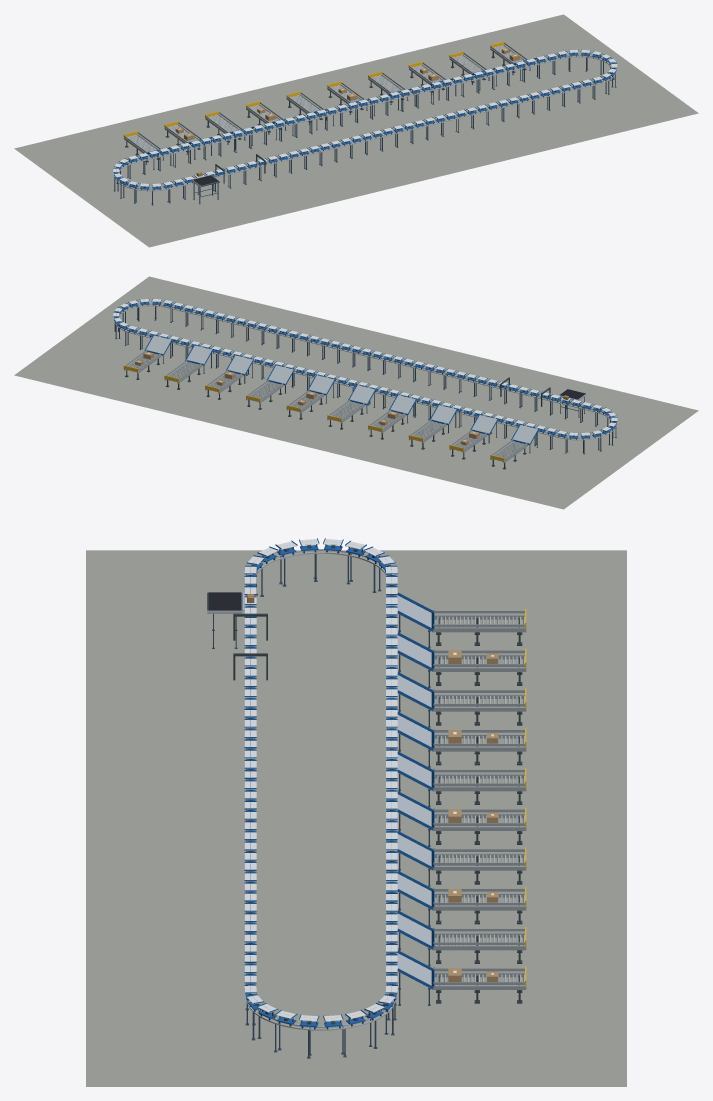
The picture shows the model from 3 angles, top to bottom: view 1: azimuth 30°, elevation 25°; view 2: azimuth 150°, elevation 25°; view 3: azimuth 270°, elevation 25°; orthographic projection. The views are drawn at different scales.
Parts seen in each view (by area): view 1: Studio ground, Outfeed roller beds, guide-rail-1, guide-rail--1, Outfeed side beams, Outfeed containment guides, Illustrative accumulated cartons, End guard bars, Outfeed legs and footplates; view 2: Studio ground, Outfeed roller beds, Outfeed side beams, guide-rail--1, Outfeed containment guides, guide-rail-1, Outfeed legs and footplates, End guard bars, Illustrative accumulated cartons; view 3: Studio ground, Outfeed side beams, Outfeed containment guides, Outfeed roller beds, Outfeed legs and footplates, Illustrative accumulated cartons.
Boxes of the visible parts, x1,y1,x2,y2 form: Studio ground: (14, 14, 698, 247); Outfeed roller beds: (127, 45, 523, 152); guide-rail-1: (114, 55, 616, 191); guide-rail--1: (119, 56, 611, 189); Outfeed side beams: (124, 44, 527, 156); Outfeed containment guides: (124, 42, 527, 152); Illustrative accumulated cartons: (175, 48, 520, 140); End guard bars: (123, 41, 504, 137); Outfeed legs and footplates: (125, 46, 526, 162); Studio ground: (14, 276, 698, 509); Outfeed roller beds: (125, 353, 524, 461); Outfeed side beams: (124, 354, 527, 463); guide-rail--1: (119, 305, 611, 438); Outfeed containment guides: (125, 349, 527, 459); guide-rail-1: (114, 304, 616, 440); Outfeed legs and footplates: (125, 358, 526, 469); End guard bars: (123, 365, 504, 461); Illustrative accumulated cartons: (135, 351, 479, 445); Studio ground: (86, 550, 626, 1086); Outfeed side beams: (432, 614, 526, 989); Outfeed containment guides: (433, 610, 524, 984); Outfeed roller beds: (437, 616, 524, 985); Outfeed legs and footplates: (436, 617, 522, 1003); Illustrative accumulated cartons: (448, 650, 498, 981).
Bounding box in the file's own units: 54 × 2.14 × 23.
